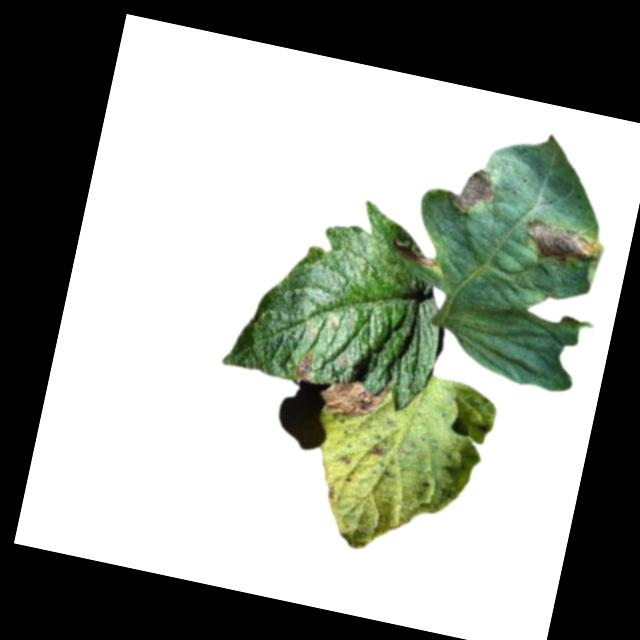Early_blight: (519, 214, 601, 274), (318, 373, 393, 425), (443, 164, 501, 223), (389, 236, 440, 268), (291, 349, 316, 382), (371, 446, 386, 458)
